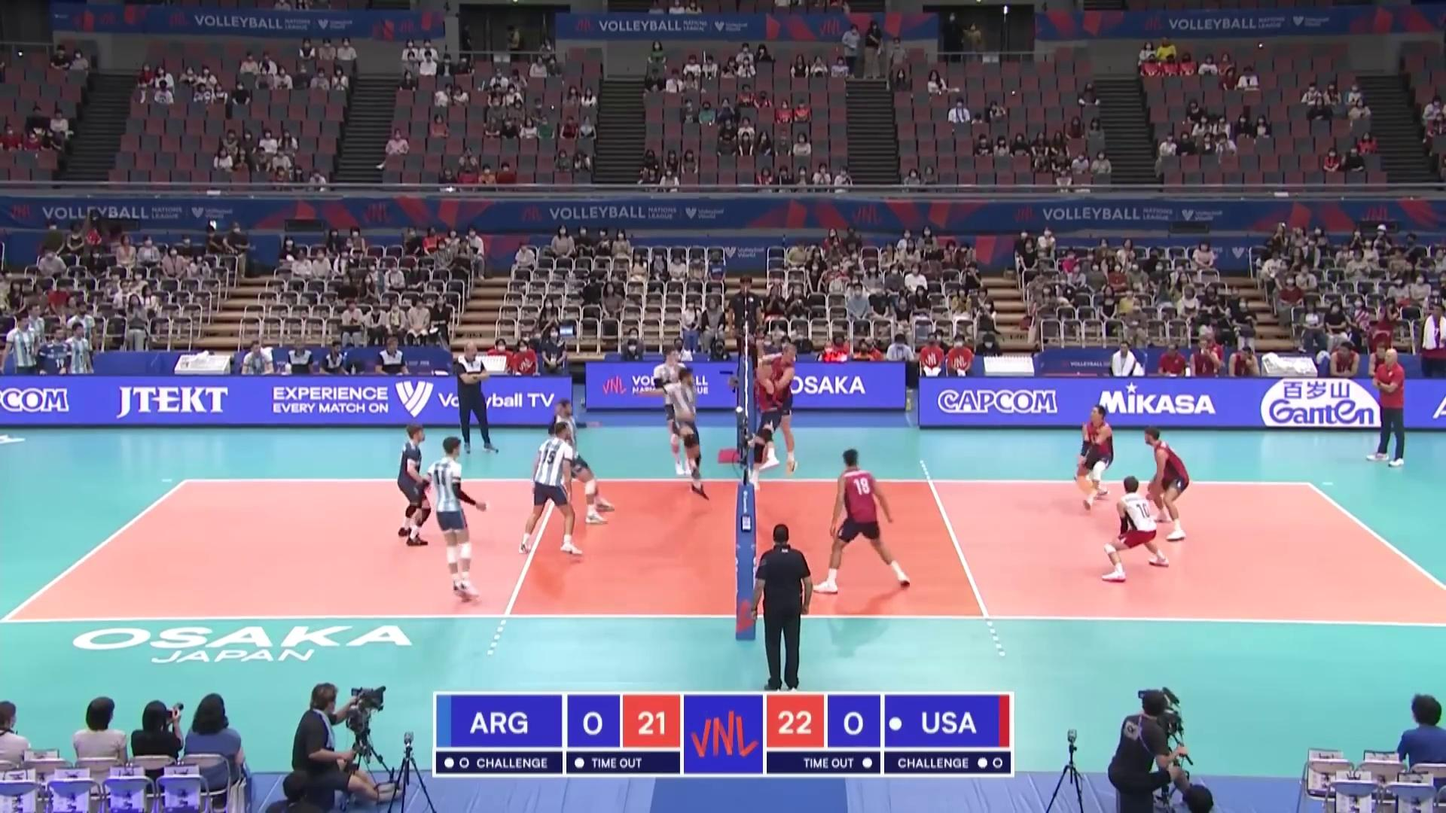player: (813, 449, 915, 594), (423, 436, 487, 603), (516, 423, 583, 560), (639, 370, 709, 501), (548, 399, 616, 527), (1101, 474, 1170, 582), (751, 343, 798, 489), (1141, 426, 1191, 542), (652, 348, 697, 474), (395, 424, 434, 546), (1075, 406, 1116, 510), (755, 360, 788, 470)
refree: (752, 527, 817, 693), (726, 276, 766, 379)
